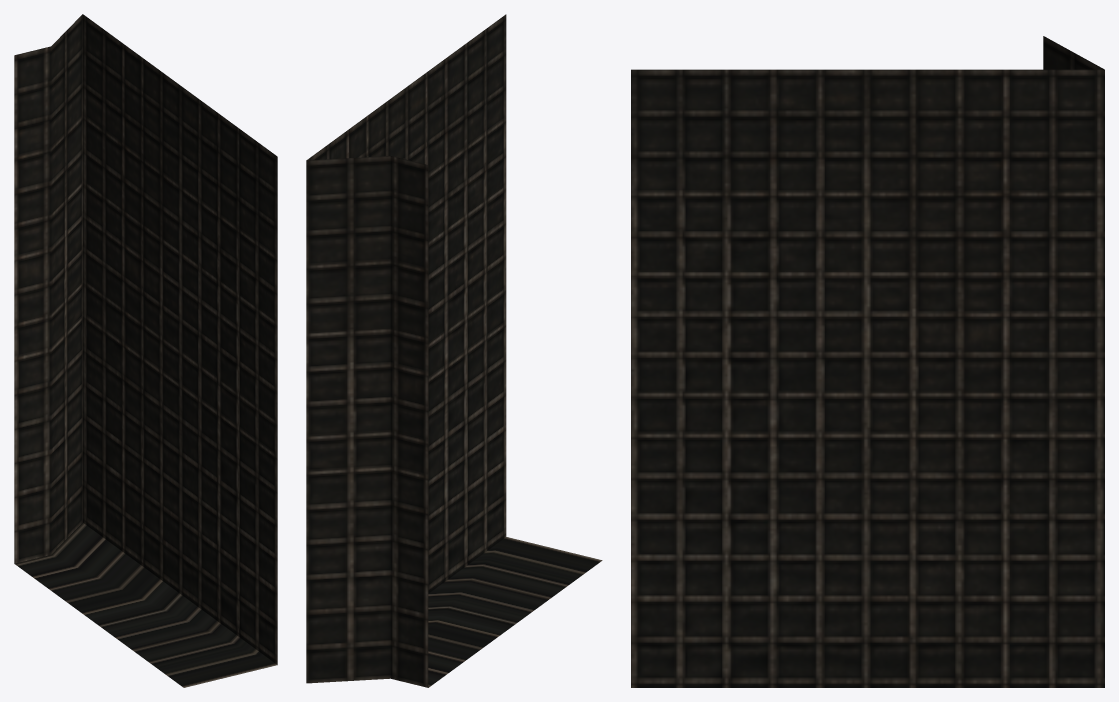
The model's file is Wall_Limit.fbx.
3 views of the same model, side by side, from view 1: azimuth 30°, elevation 25°; view 2: azimuth 150°, elevation 25°; view 3: azimuth 270°, elevation 25° (orthographic). The views are drawn at different scales.
Parts seen in each view (by area): view 1: Cube; view 2: Cube; view 3: Cube.
Boxes of the visible parts, x1,y1,x2,y2 form: Cube: [14, 14, 277, 687]; Cube: [306, 14, 602, 687]; Cube: [631, 36, 1104, 687].
Bounding box in the file's own units: 1.26 × 6.54 × 4.54.
